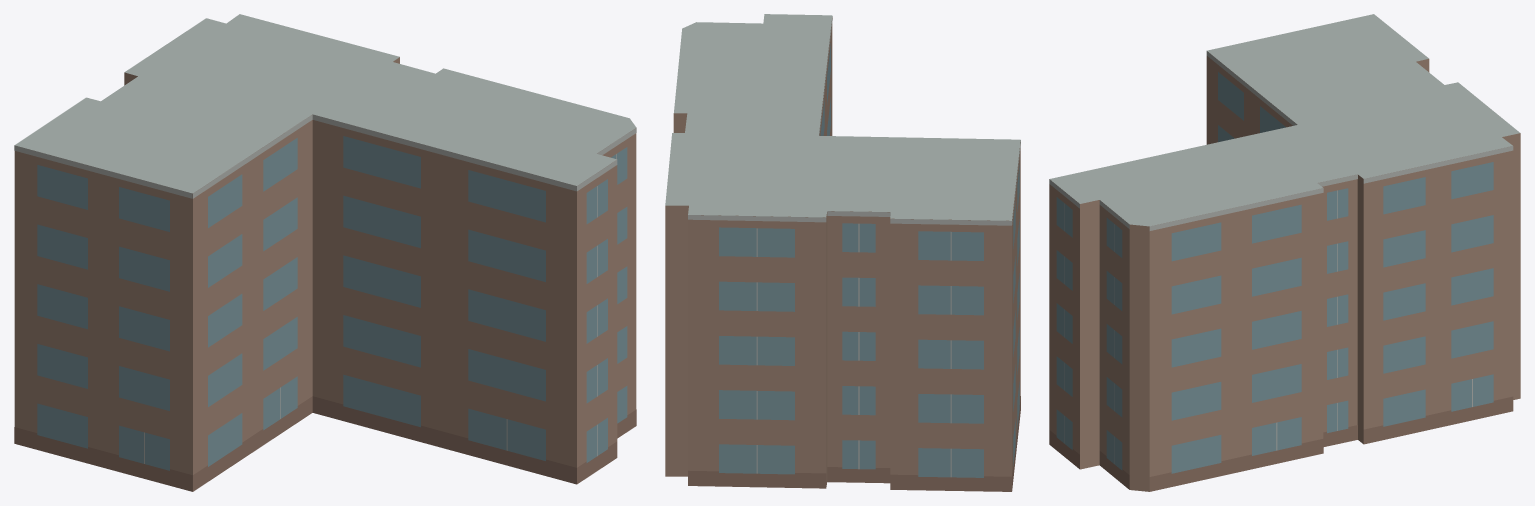
File: survey-upis-32862257.glb
The picture shows the model from 3 angles, left to right: view 1: azimuth 30°, elevation 25°; view 2: azimuth 150°, elevation 25°; view 3: azimuth 270°, elevation 25°; orthographic projection. The views are drawn at different scales.
Visible parts, largest first — view 1: survey-upis-32862257.tmp; view 2: survey-upis-32862257.tmp; view 3: survey-upis-32862257.tmp.
Boxes of the visible parts, bbox=[...] form: survey-upis-32862257.tmp: bbox=[14, 14, 636, 491]; survey-upis-32862257.tmp: bbox=[665, 14, 1020, 491]; survey-upis-32862257.tmp: bbox=[1049, 14, 1520, 491].
Size of the model in its own units: 23.17 by 13.5 by 21.72.
